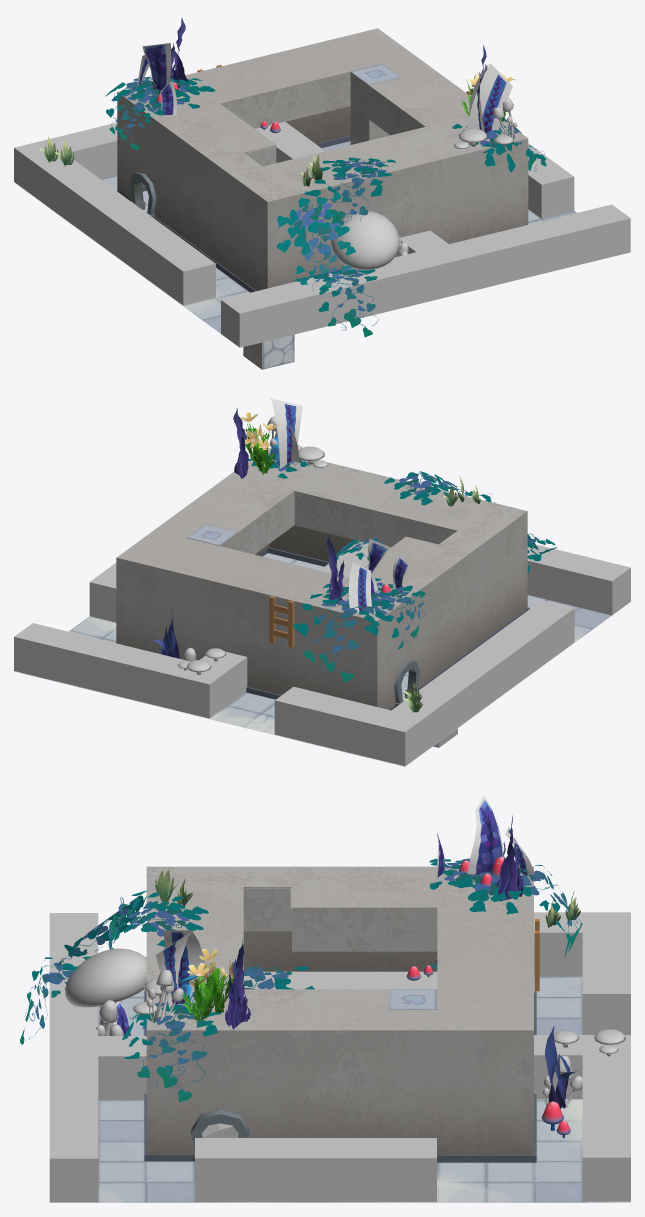
The model's file is Map_03.FBX.
3 renders of one model, top to bottom at view 1: azimuth 30°, elevation 25°; view 2: azimuth 150°, elevation 25°; view 3: azimuth 270°, elevation 25°, orthographic. The views are drawn at different scales.
Visible parts, largest first — view 1: Box_01, Plane_01, Cli_leaf_011, Shiitake_022, Plane_02, Plane_00, Cli_leaf_006, Interactive_01, Box_insid, Plant_002, Cli_leaf_010, Interactive_02 (+5 smaller); view 2: Box_01, Plane_01, Plane_00, Cli_leaf_004, Box_insid, Plane_02, Plant_005, Cli_leaf_006, Cli_leaf_003, Plant_004, Interactive_01, Plant_A11 (+2 smaller); view 3: Box_01, Plane_01, Plane_00, Plane_02, Box_insid, Shiitake_022, Cli_leaf_005, Cli_leaf_006, Cli_leaf_004, Plant_003, Plant_A11, Plant_005 (+9 smaller).
Part boxes in pixels (x1,y1,x2,y2): Box_01: (117, 28, 528, 292); Plane_01: (14, 121, 630, 347); Cli_leaf_011: (277, 192, 356, 291); Shiitake_022: (331, 211, 399, 270); Plane_02: (528, 143, 574, 218); Plane_00: (14, 141, 630, 347); Cli_leaf_006: (304, 157, 395, 238); Interactive_01: (350, 63, 401, 144); Box_insid: (141, 106, 350, 200); Plant_002: (466, 63, 512, 134); Cli_leaf_010: (294, 268, 380, 337); Interactive_02: (243, 334, 294, 369); Box_01: (116, 448, 529, 710); Plane_01: (14, 541, 630, 766); Plane_00: (14, 553, 611, 766); Cli_leaf_004: (293, 584, 411, 682); Box_insid: (255, 525, 354, 566); Plane_02: (89, 563, 116, 622); Plant_005: (271, 399, 302, 468); Cli_leaf_006: (384, 471, 495, 505); Cli_leaf_003: (341, 578, 425, 649); Plant_004: (348, 562, 371, 611); Interactive_01: (187, 524, 237, 550); Plant_A11: (241, 412, 278, 474); Box_01: (144, 866, 536, 1162); Plane_01: (49, 912, 630, 1202); Plane_00: (98, 957, 630, 1202); Plane_02: (195, 1138, 436, 1202); Box_insid: (243, 888, 437, 1009); Shiitake_022: (65, 948, 146, 1035); Cli_leaf_005: (122, 1000, 221, 1102); Cli_leaf_006: (108, 890, 208, 949); Cli_leaf_004: (456, 860, 582, 956); Plant_003: (467, 795, 503, 880); Plant_A11: (187, 949, 233, 1021); Plant_005: (162, 930, 206, 1003).
Size of the model in its own units: 3961 by 4204 by 2663.
